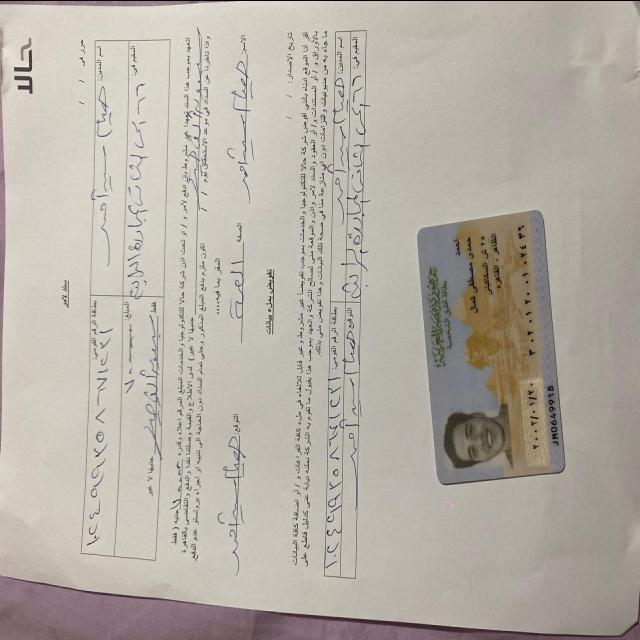id_card: (413, 204, 570, 487)
